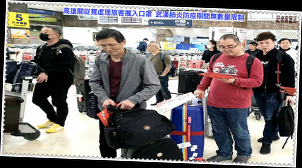with_mask: (38, 28, 54, 43), (205, 42, 213, 50)
without_mask: (99, 41, 122, 56), (218, 42, 239, 56), (257, 40, 273, 53), (280, 41, 291, 50), (146, 44, 155, 53), (248, 44, 254, 50)
